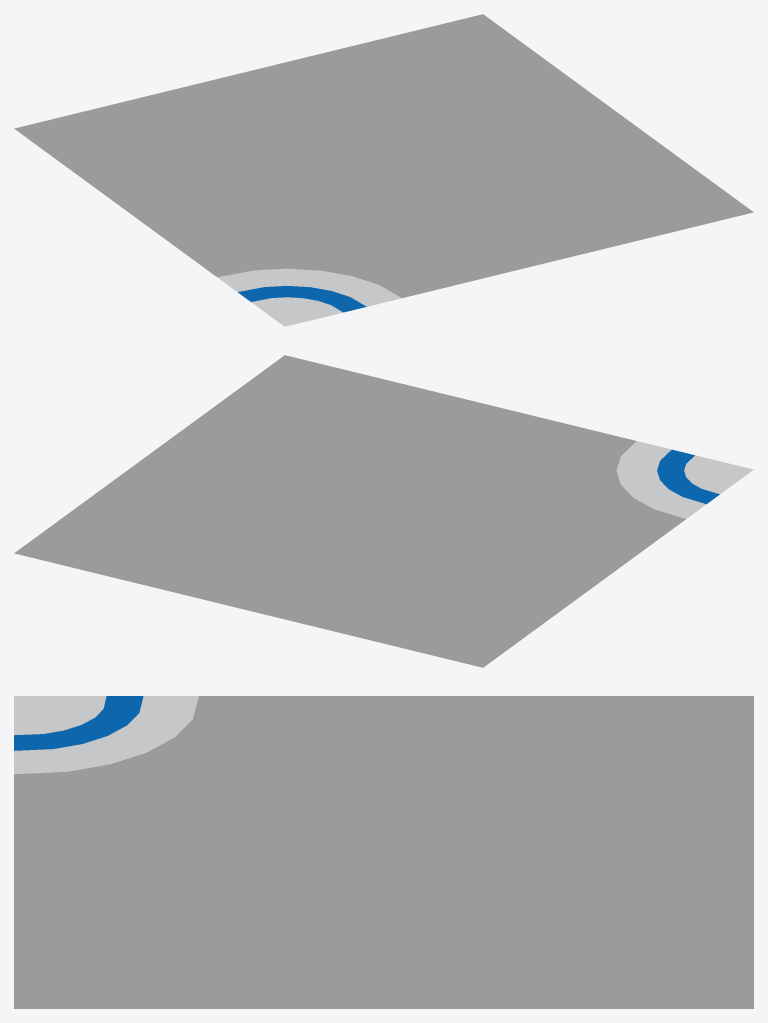
Rendered from Ceiling_type_A_011.fbx.
3 views of the same model, one above another, from view 1: azimuth 30°, elevation 25°; view 2: azimuth 150°, elevation 25°; view 3: azimuth 270°, elevation 25° (orthographic). The views are drawn at different scales.
Parts seen in each view (by area): view 1: Ceiling_type_A_011; view 2: Ceiling_type_A_011; view 3: Ceiling_type_A_011.
Part boxes in pixels (x1,y1,x2,y2): Ceiling_type_A_011: (14,14,753,326); Ceiling_type_A_011: (14,355,753,667); Ceiling_type_A_011: (14,696,753,1008).
Size of the model in its own units: 400 by 400 by 5.71.
